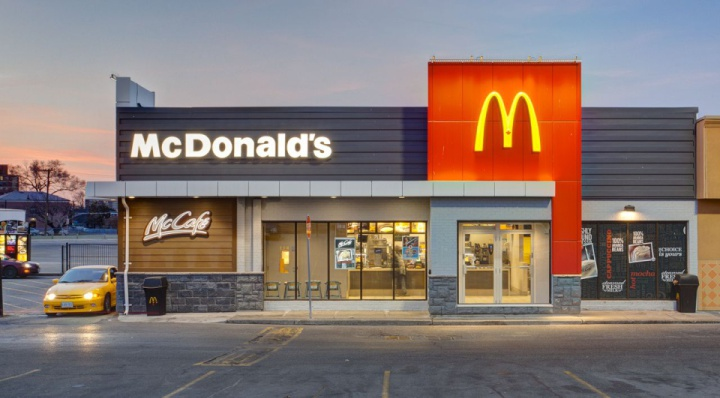mcdonalds: (469, 84, 555, 161)
